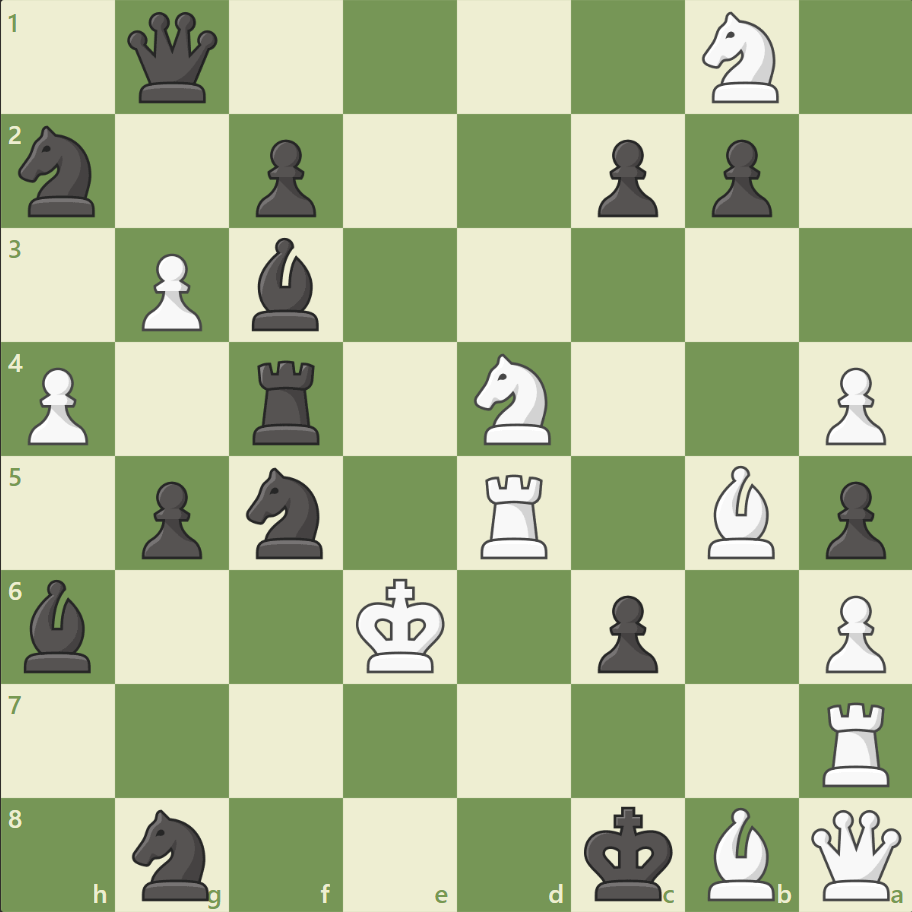B: (698, 801, 782, 904), (698, 460, 782, 563)
K: (351, 571, 451, 679)
N: (692, 7, 789, 110), (465, 348, 562, 450)
P: (20, 359, 95, 450), (133, 246, 208, 337), (815, 586, 889, 677), (815, 359, 889, 450)
Q: (805, 804, 904, 903)
R: (814, 693, 897, 790), (473, 466, 556, 563)
b: (244, 233, 328, 336), (17, 574, 101, 676)
k: (579, 798, 679, 906)
n: (124, 802, 222, 904), (238, 461, 335, 564), (11, 121, 108, 223)
p: (133, 473, 208, 564), (701, 132, 776, 223), (247, 132, 322, 223), (588, 586, 662, 677), (815, 473, 889, 564), (588, 132, 662, 223)
q: (124, 9, 223, 108)
r: (246, 352, 329, 449)
